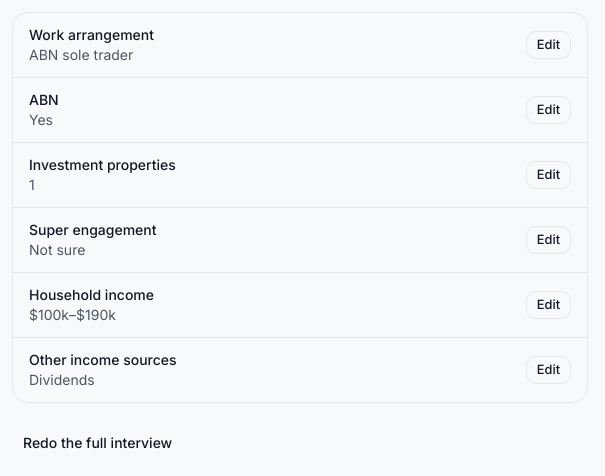
Test: TaxProfileSummary › offers a 'Redo the full interview' escape hatch that reopens the wizard prefilled
Click the button "Redo the full interview" at [98, 443], box [12,427,183,459]
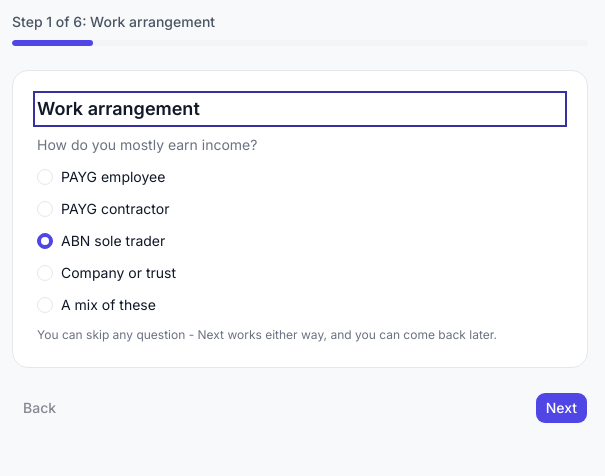
Now the text "Step 1 of 6: Work arrangement" is shown, box [12,13,215,30]
Now the radio button named "abn sole trader" is checked, box [37,233,53,249]
